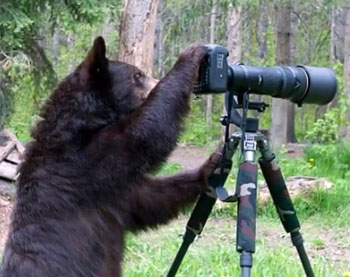bear: (2, 35, 226, 275)
